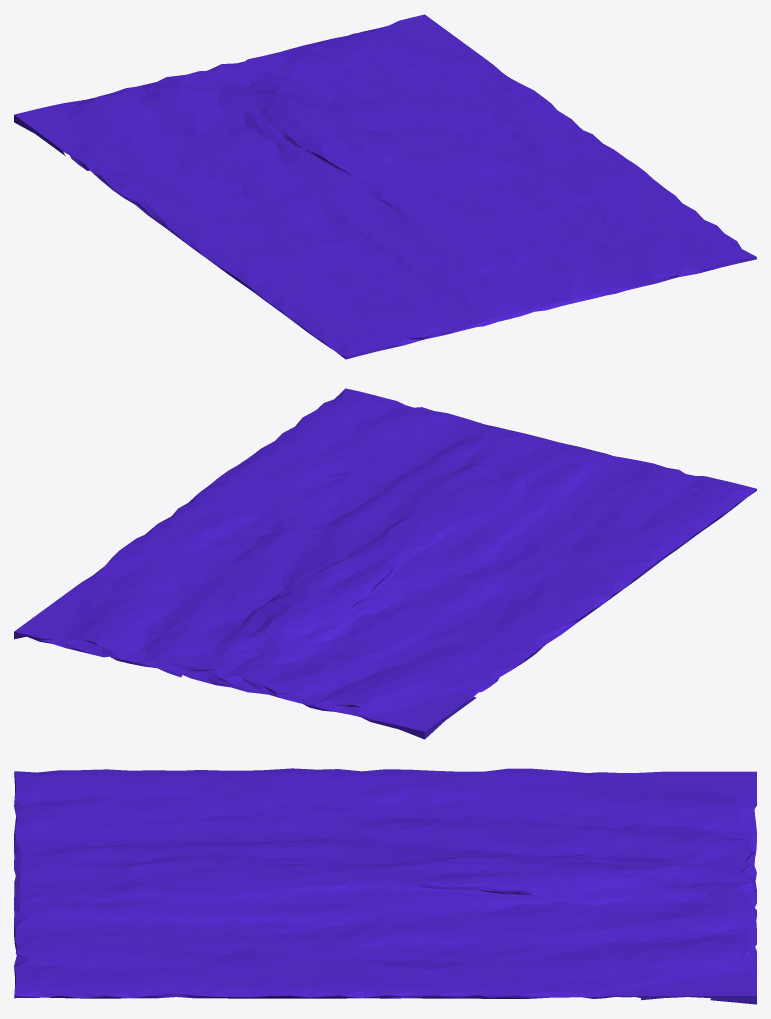
The model's file is Wall1.fbx.
3 views of the same model, one above another, from view 1: azimuth 30°, elevation 25°; view 2: azimuth 150°, elevation 25°; view 3: azimuth 270°, elevation 25° (orthographic). The views are drawn at different scales.
Parts seen in each view (by area): view 1: Cube; view 2: Cube; view 3: Cube.
Part boxes in pixels (x1,y1,x2,y2): Cube: [14, 14, 756, 359]; Cube: [14, 388, 756, 739]; Cube: [14, 768, 756, 1004].
Bounding box in the file's own units: 1418 × 65.56 × 1955.
